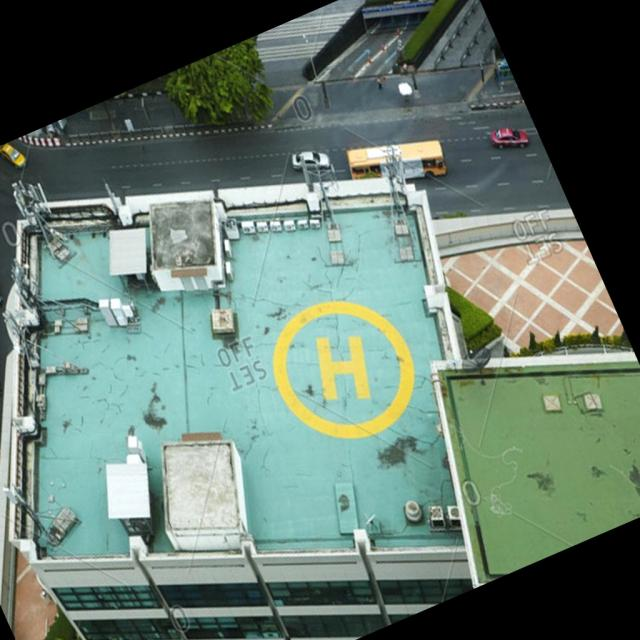helipad: (267, 294, 421, 444)
